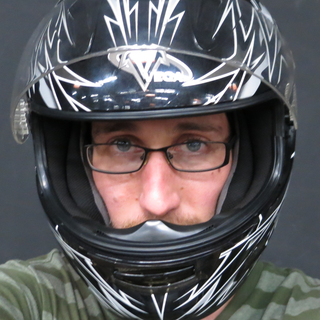eye: (102, 133, 146, 157), (173, 132, 213, 158)
